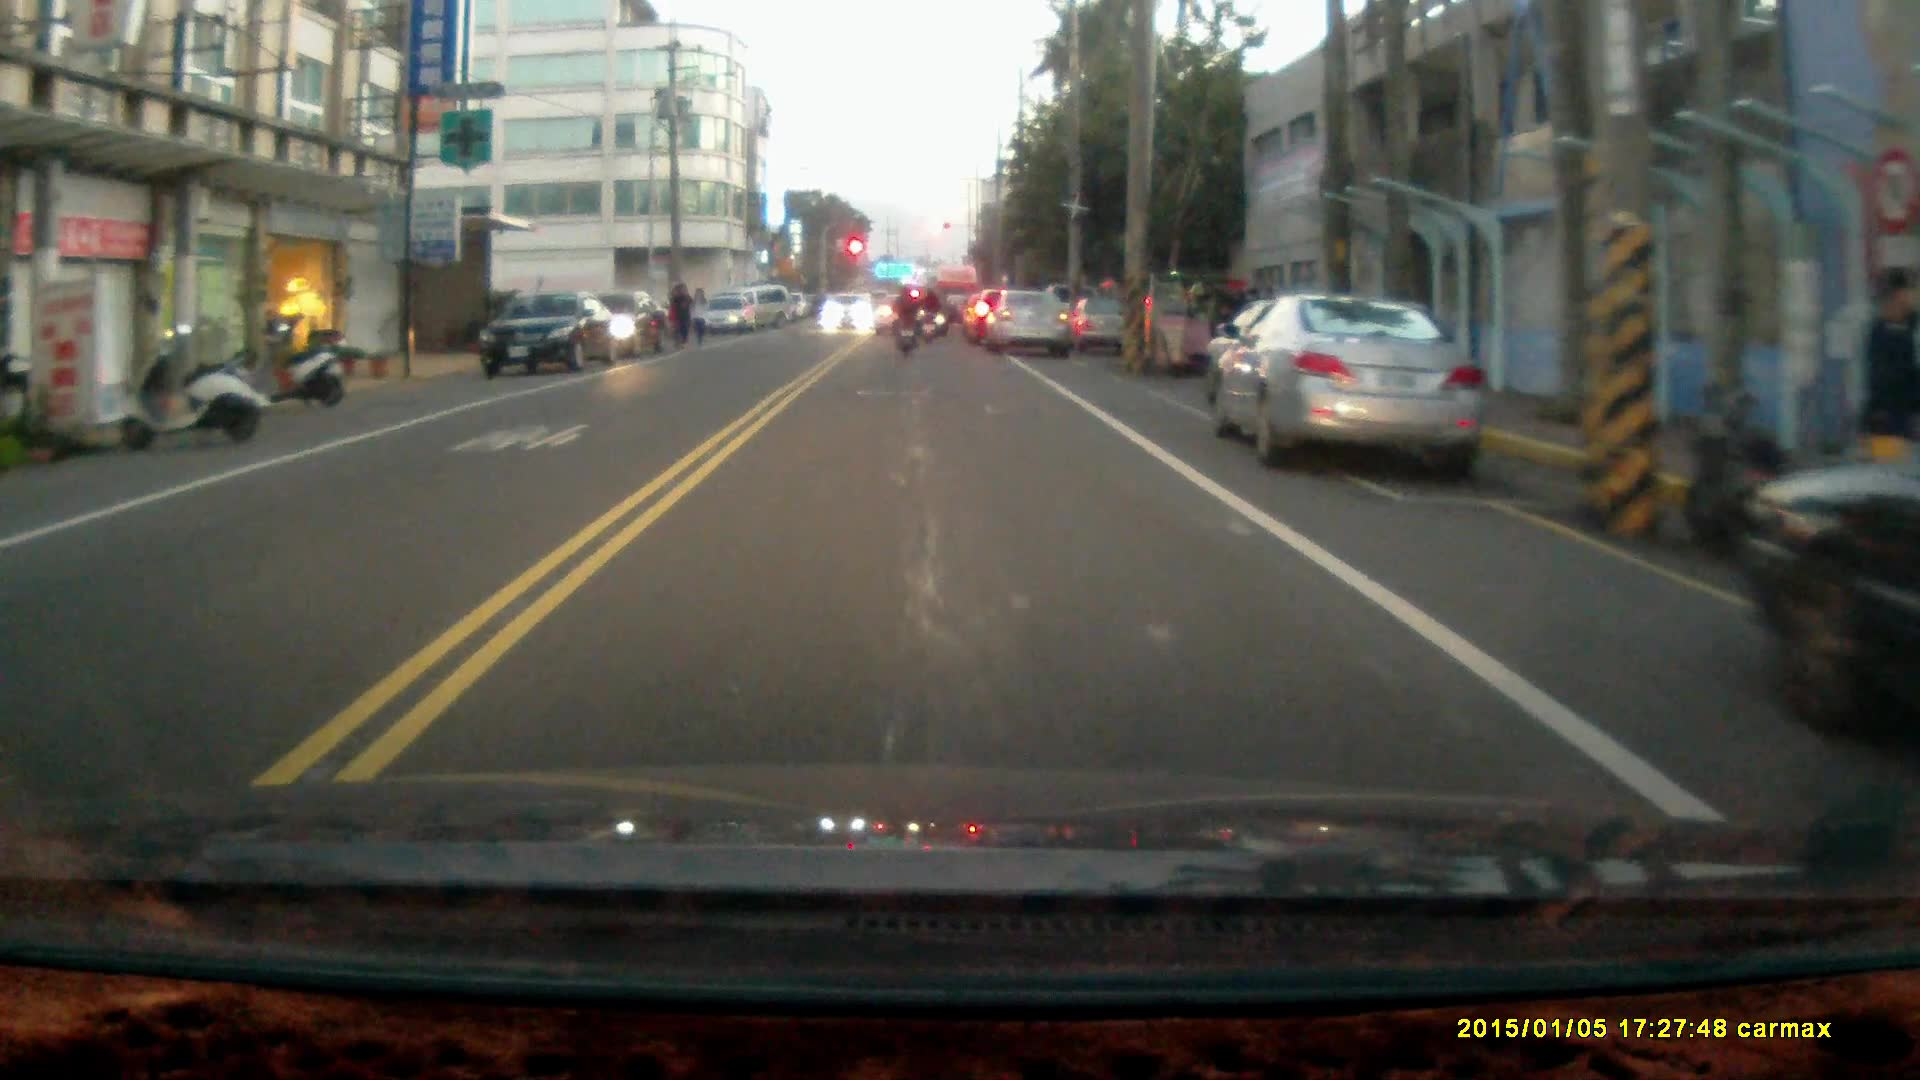pedestrian: (1860, 271, 1914, 510), (666, 280, 690, 351), (687, 283, 708, 351)
rider: (888, 283, 919, 360), (914, 283, 942, 346)
vehicle: (1730, 423, 1920, 754), (1214, 294, 1489, 476), (476, 292, 620, 383), (1113, 272, 1227, 375), (983, 287, 1074, 357), (818, 293, 873, 338)
